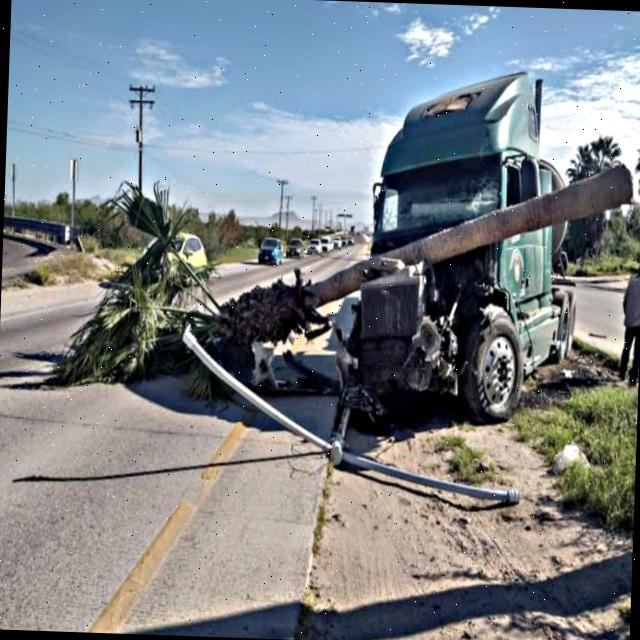Broken Pole: (176, 324, 526, 506)
